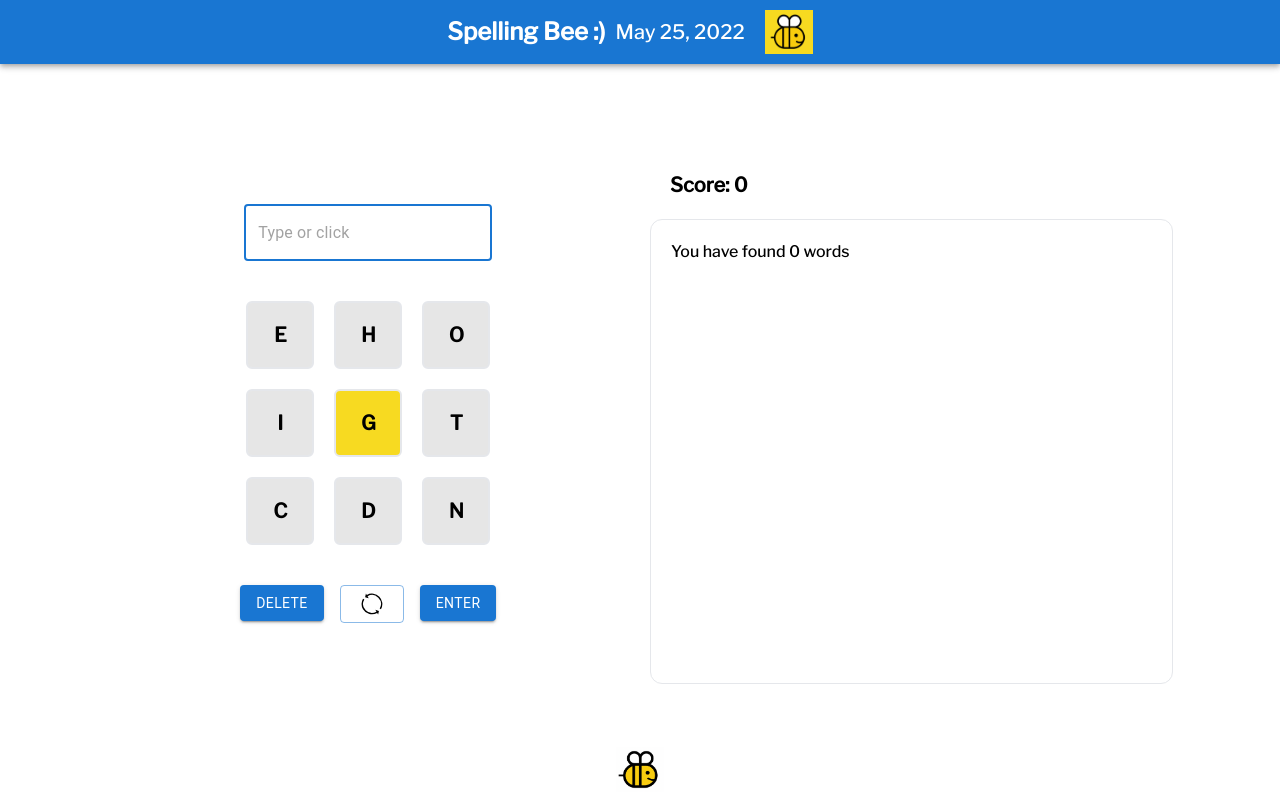
Test case: <App /> › Validation errors › Bad letters
The image size is (1280, 800).
// types in 'LOLZ'
Type "LOLZ" into the field.
click(368, 233); type("LOLZ")  # box 244,205 -> 492,261
Then press Enter
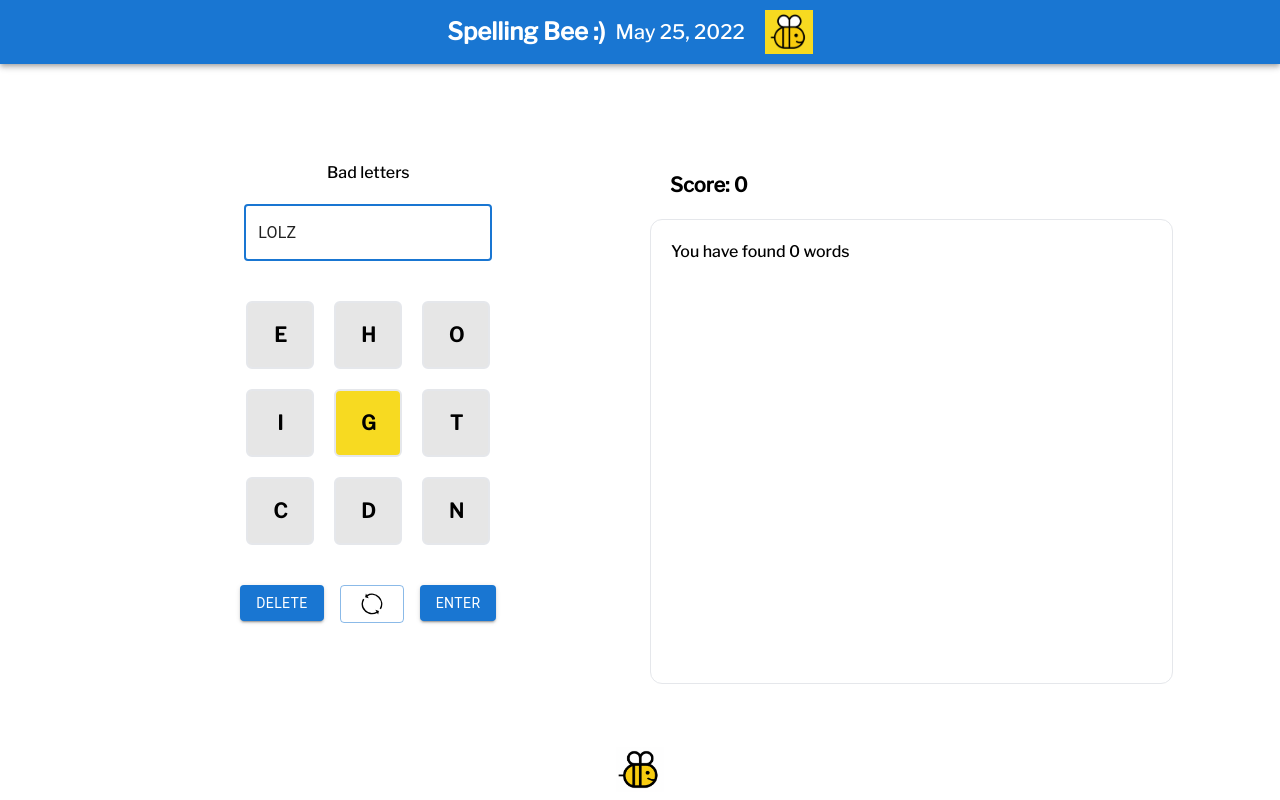
Expected: the text "Bad letters" is shown, 327,163 -> 410,182
